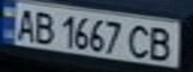1: (54, 12, 75, 48)
6: (87, 16, 106, 53), (72, 15, 90, 51)
7: (103, 18, 127, 56)
A: (12, 6, 39, 42)
B: (145, 24, 181, 63), (30, 8, 57, 45)
C: (124, 21, 154, 60)
